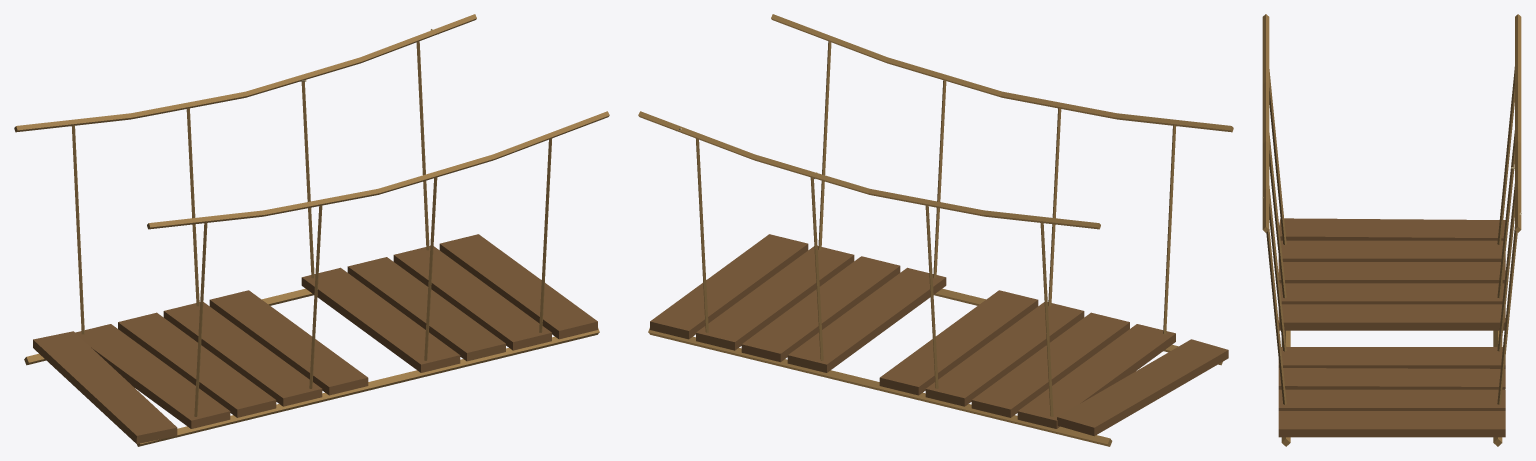
File: Prop_YTM_RopeBridge_Seg_S2_LOD1.glb
The picture shows the model from 3 angles, left to right: view 1: azimuth 30°, elevation 25°; view 2: azimuth 150°, elevation 25°; view 3: azimuth 270°, elevation 25°; orthographic projection. The views are drawn at different scales.
Parts seen in each view (by area): view 1: Prop_YTM_RopeBridge_Seg_S2; view 2: Prop_YTM_RopeBridge_Seg_S2; view 3: Prop_YTM_RopeBridge_Seg_S2.
Boxes of the visible parts, <box> form: Prop_YTM_RopeBridge_Seg_S2: <box>14,14,609,446</box>; Prop_YTM_RopeBridge_Seg_S2: <box>638,14,1233,446</box>; Prop_YTM_RopeBridge_Seg_S2: <box>1262,14,1521,446</box>.
Bounding box in the file's own units: 2.02 × 0.9629 × 1.03.
